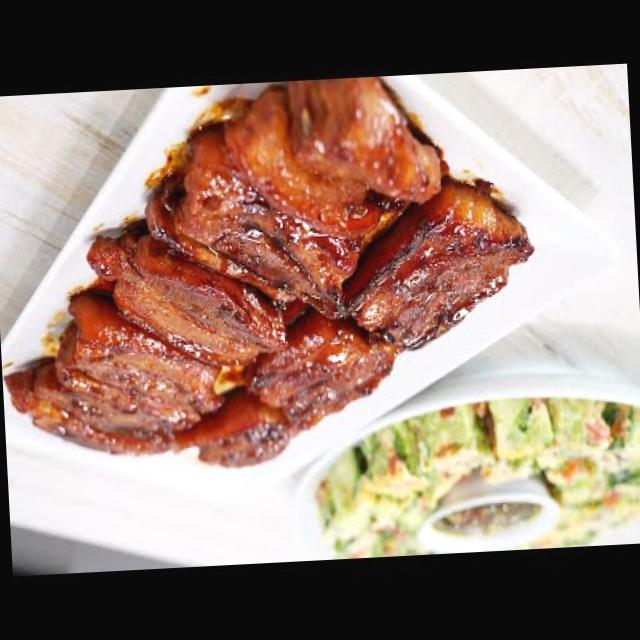thit chien: (172, 129, 360, 309), (346, 185, 532, 351), (55, 297, 222, 438), (112, 236, 285, 364), (289, 80, 441, 202), (250, 313, 394, 433), (200, 415, 291, 468)
